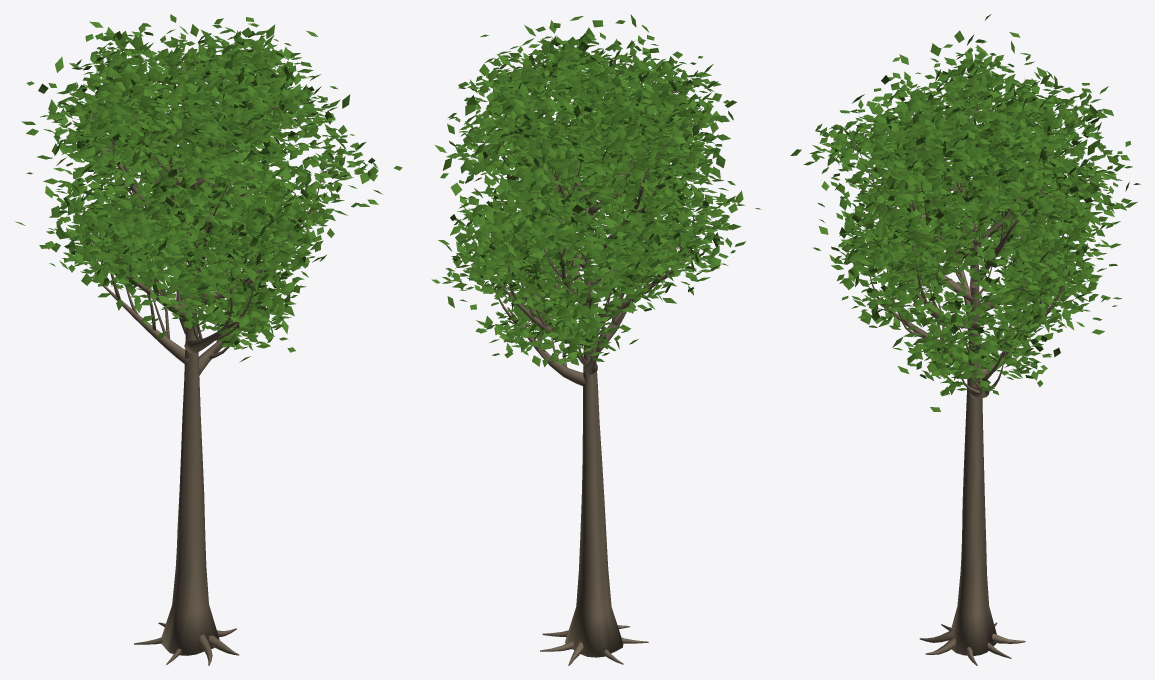
File: woodland_tall_static.glb
The picture shows the model from 3 angles, left to right: view 1: azimuth 30°, elevation 25°; view 2: azimuth 150°, elevation 25°; view 3: azimuth 270°, elevation 25°; orthographic projection. The views are drawn at different scales.
Visible parts, largest first — view 1: woodland_tall_leaves.013, woodland_tall_bark.013; view 2: woodland_tall_leaves.013, woodland_tall_bark.013; view 3: woodland_tall_leaves.013, woodland_tall_bark.013.
Boxes of the visible parts, x1,y1,x2,y2 form: woodland_tall_leaves.013: (15,14,402,362); woodland_tall_bark.013: (71,54,339,665); woodland_tall_leaves.013: (431,14,761,367); woodland_tall_bark.013: (472,53,712,665); woodland_tall_leaves.013: (790,14,1140,411); woodland_tall_bark.013: (845,59,1096,665).
Bounding box in the file's own units: 11.76 × 21.91 × 12.08.
